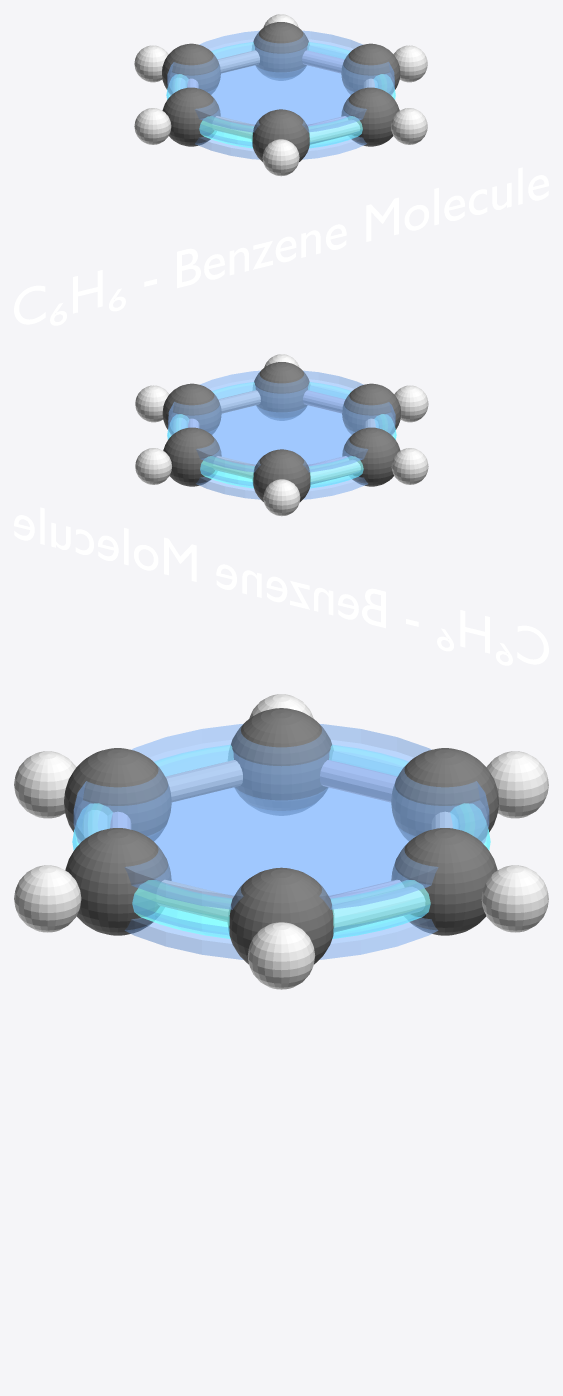
File: Benzene#1 .glb
3 renders of one model, top to bottom at view 1: azimuth 30°, elevation 25°; view 2: azimuth 150°, elevation 25°; view 3: azimuth 270°, elevation 25°, orthographic. The views are drawn at different scales.
Visible parts, largest first — view 1: Pi_Cloud_Top, Pi_Cloud_Bottom, Benzene_Label, Electron_Cloud, Carbon_2, Carbon_4, Carbon_6, Electron_Cloud.001, Carbon_1, Carbon_3, Carbon_5, Hydrogen_6 (+8 smaller); view 2: Pi_Cloud_Top, Pi_Cloud_Bottom, Benzene_Label, Electron_Cloud, Carbon_6, Carbon_2, Carbon_4, Electron_Cloud.001, Carbon_5, Carbon_1, Carbon_3, Hydrogen_2 (+8 smaller); view 3: Pi_Cloud_Top, Pi_Cloud_Bottom, Electron_Cloud, Carbon_4, Carbon_6, Carbon_2, Electron_Cloud.001, Carbon_3, Carbon_5, Carbon_1, Hydrogen_2, Hydrogen_6 (+7 smaller).
Part boxes in pixels (x1,y1,x2,y2): Pi_Cloud_Top: [167, 30, 394, 132]; Pi_Cloud_Bottom: [195, 65, 366, 159]; Benzene_Label: [14, 167, 548, 325]; Electron_Cloud: [166, 42, 395, 148]; Carbon_2: [252, 22, 308, 80]; Carbon_4: [162, 87, 220, 146]; Carbon_6: [341, 87, 399, 146]; Electron_Cloud.001: [166, 43, 395, 147]; Carbon_1: [341, 43, 400, 94]; Carbon_3: [162, 43, 220, 94]; Carbon_5: [252, 109, 309, 161]; Hydrogen_6: [391, 108, 427, 144]; Pi_Cloud_Top: [168, 370, 395, 472]; Pi_Cloud_Bottom: [196, 406, 367, 499]; Benzene_Label: [14, 507, 548, 665]; Electron_Cloud: [167, 382, 396, 488]; Carbon_6: [253, 362, 309, 420]; Carbon_2: [163, 427, 221, 486]; Carbon_4: [342, 427, 400, 486]; Electron_Cloud.001: [167, 383, 396, 487]; Carbon_5: [342, 383, 400, 434]; Carbon_1: [162, 383, 221, 434]; Carbon_3: [252, 449, 310, 501]; Hydrogen_2: [135, 448, 171, 484]; Pi_Cloud_Top: [73, 724, 489, 909]; Pi_Cloud_Bottom: [125, 788, 437, 959]; Electron_Cloud: [72, 745, 490, 938]; Carbon_4: [228, 708, 333, 815]; Carbon_6: [65, 828, 171, 935]; Carbon_2: [391, 828, 497, 935]; Electron_Cloud.001: [72, 746, 490, 938]; Carbon_3: [391, 748, 498, 840]; Carbon_5: [64, 748, 171, 840]; Carbon_1: [228, 867, 334, 964]; Hydrogen_2: [481, 865, 548, 932]; Hydrogen_6: [14, 865, 81, 932].
Size of the model in its own units: 8.35 by 3.02 by 3.96.
